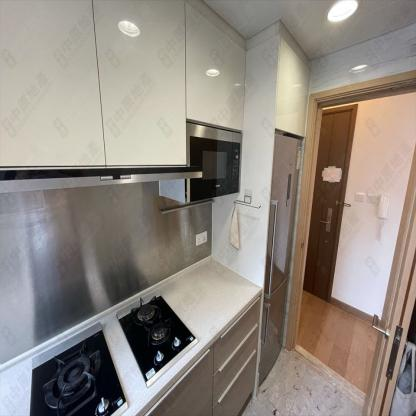Cupboard: (0, 0, 250, 167), (144, 294, 263, 414)
Exhaust Hood: (0, 166, 203, 195)
Fridge: (258, 135, 302, 385)
Microwave: (189, 123, 242, 201)
Stove: (29, 321, 129, 415), (116, 291, 199, 388)
